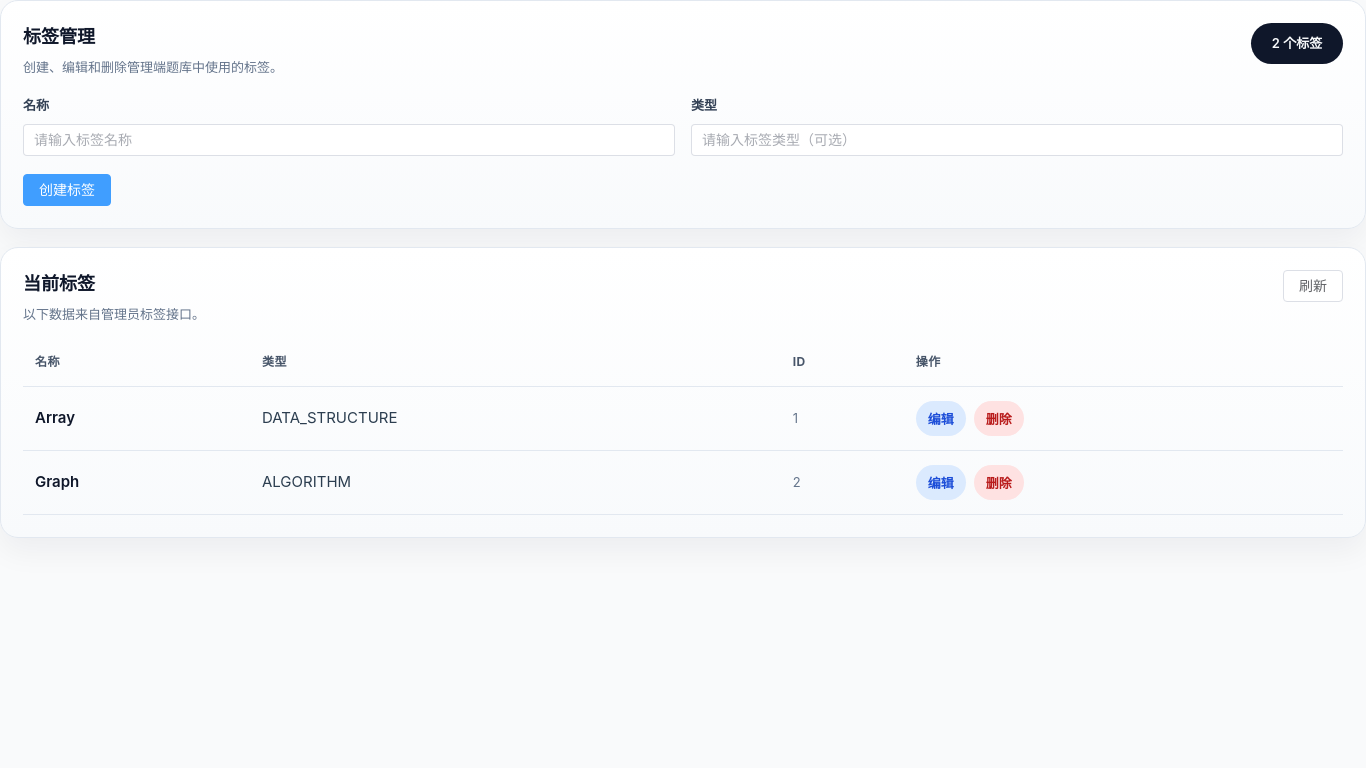
Test: TagManagement › deletes a tag after confirmation
Click the button with test id "delete-tag-2": (999, 482) [974,465,1024,500]
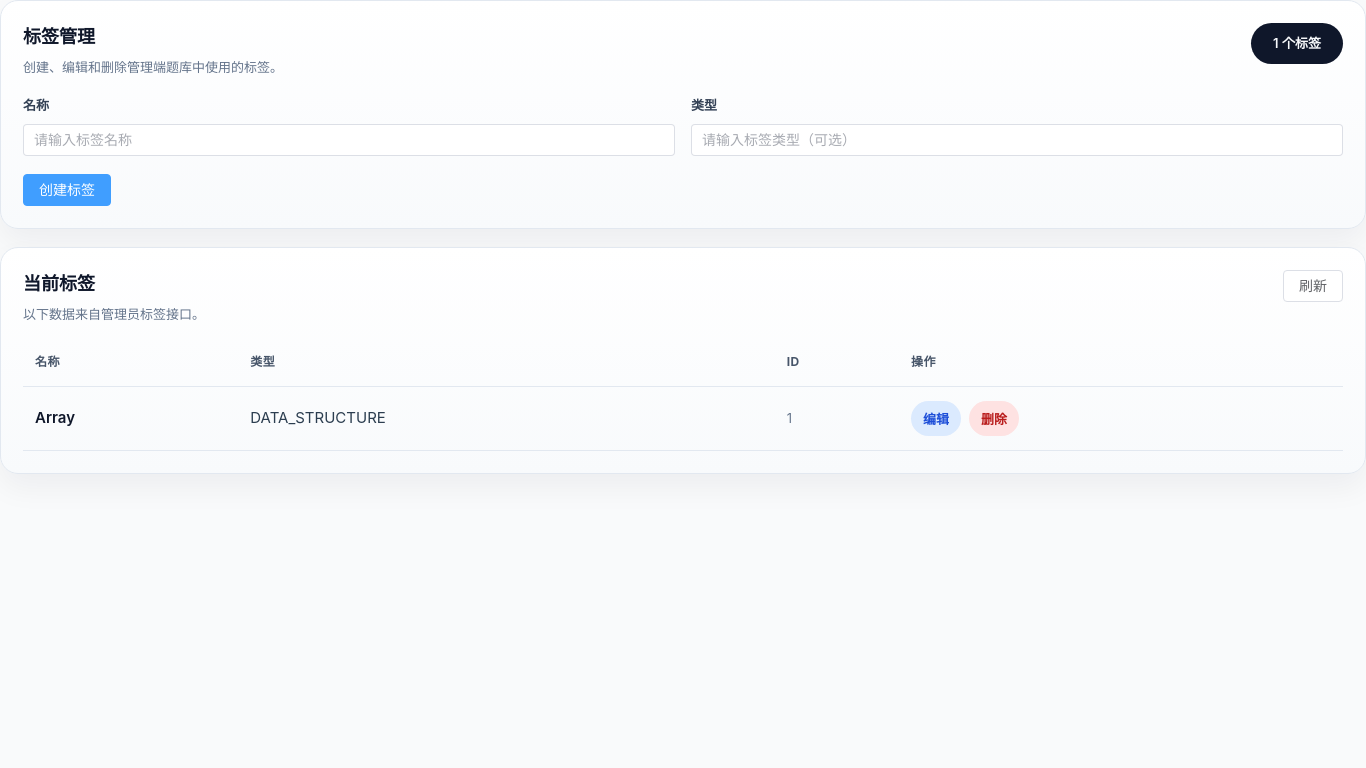
Result: the text "Graph" is gone
